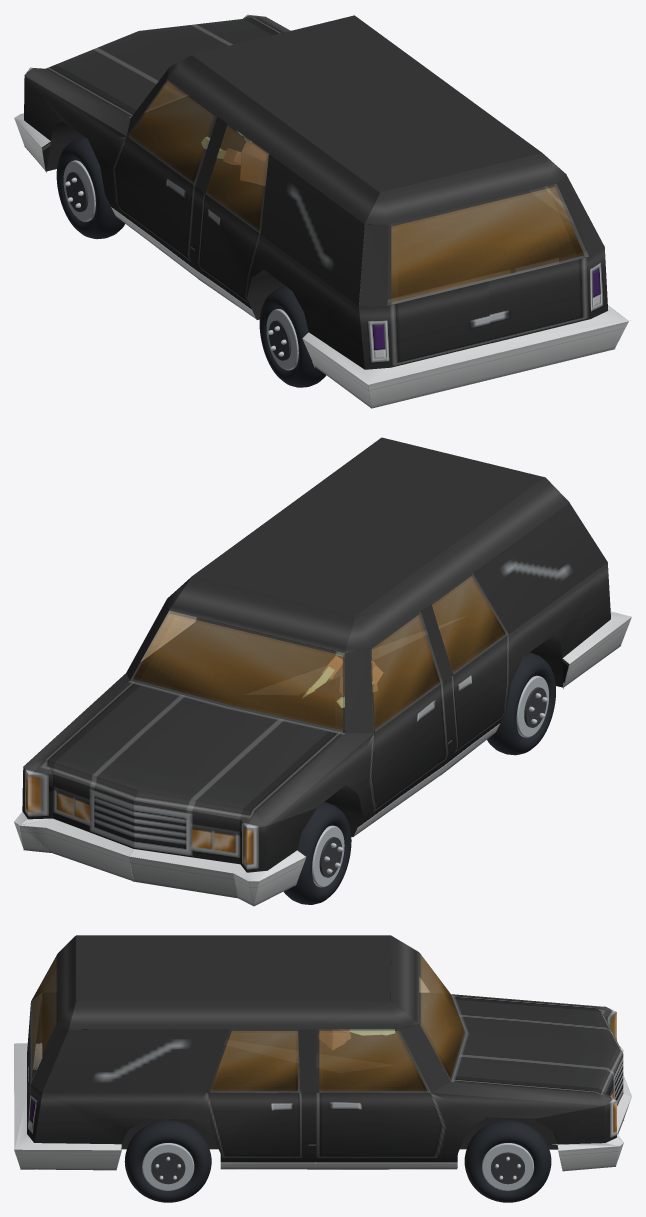
Rendered from car-hallo.glb.
3 renders of one model, top to bottom at view 1: azimuth 30°, elevation 25°; view 2: azimuth 150°, elevation 25°; view 3: azimuth 270°, elevation 25°, orthographic. The views are drawn at different scales.
Visible parts, largest first — view 1: halloShape, halloShape.001, zombieDriveShape, hallo wheel assembly, hallo wheel assembly.003; view 2: halloShape, halloShape.001, zombieDriveShape, hallo wheel assembly, hallo wheel assembly.003; view 3: halloShape, halloShape.001, zombieDriveShape, hallo wheel assembly.002, hallo wheel assembly.001.
Part boxes in pixels (<box>): halloShape: <box>14,14,630,408</box>; halloShape.001: <box>127,79,588,305</box>; zombieDriveShape: <box>127,95,586,298</box>; hallo wheel assembly: <box>56,137,124,239</box>; hallo wheel assembly.003: <box>259,286,326,387</box>; halloShape: <box>14,437,631,906</box>; halloShape.001: <box>126,573,508,732</box>; zombieDriveShape: <box>130,574,508,732</box>; hallo wheel assembly: <box>283,802,351,904</box>; hallo wheel assembly.003: <box>487,652,555,755</box>; halloShape: <box>14,935,631,1171</box>; halloShape.001: <box>31,953,465,1092</box>; zombieDriveShape: <box>42,993,465,1092</box>; hallo wheel assembly.002: <box>124,1120,211,1202</box>; hallo wheel assembly.001: <box>464,1120,551,1202</box>.
Bounding box in the file's own units: 2.53 × 2.04 × 6.09.
Materials: 6 (3 with a texture image).
